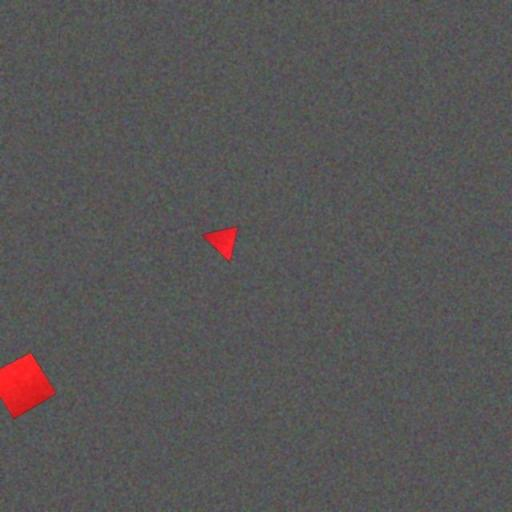RED_SQUARE: (0, 352, 58, 420)
